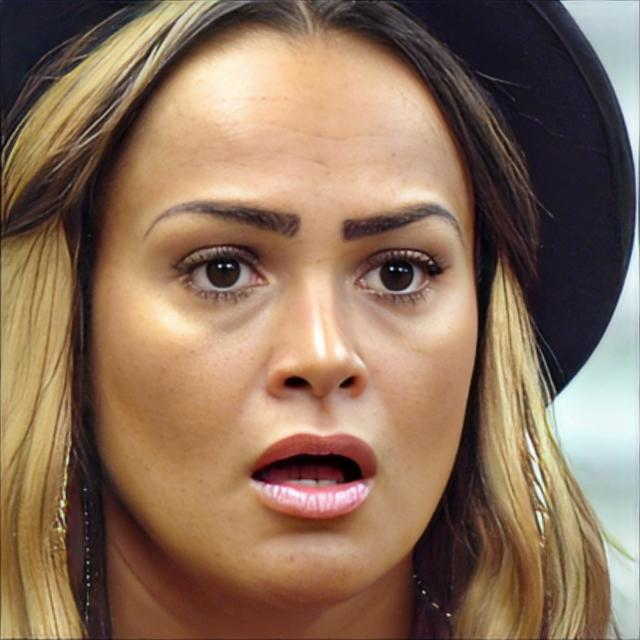fear: (88, 34, 482, 610)
